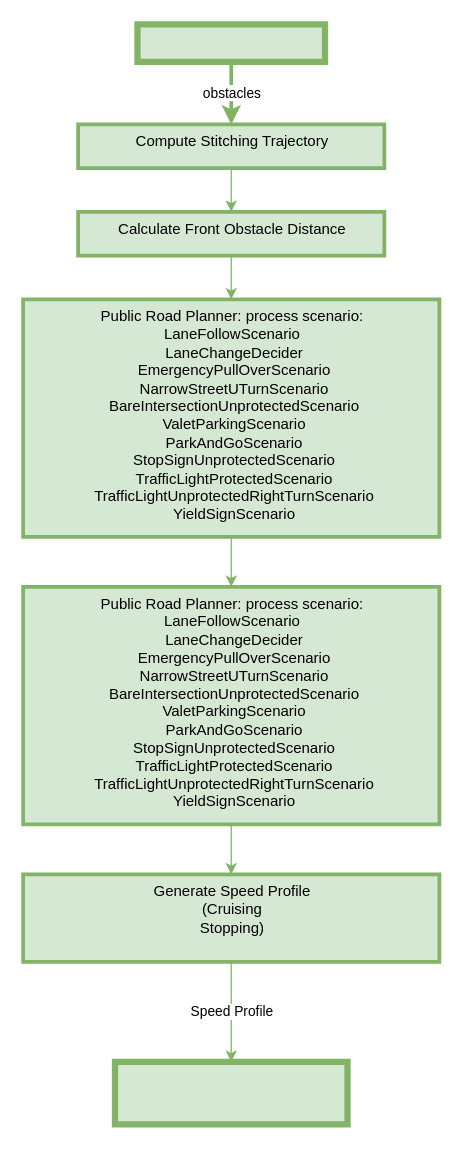
The diagram is 463 pixels wide and 1149 high, and some of its shapes have lost their labels. The shapes that lost their labels are listed below. From the top down, each one's centre as x and y in pixels, then its label:
the point at 231,42: Planning Component
the point at 230,1092: Control Component
